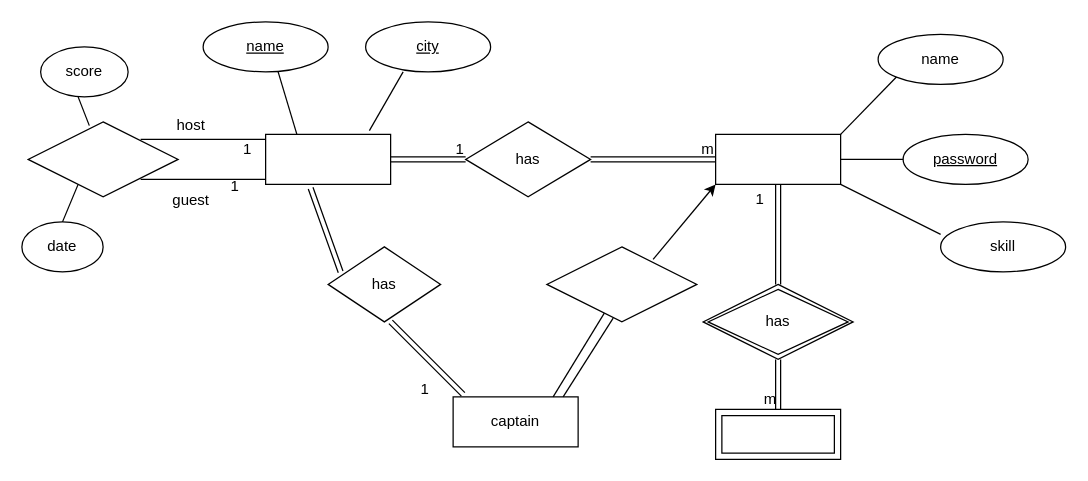
Image size: 1088x481. Some labels were removed from this diagram. Each missing label, with the box of its shape:
injury record: (714, 408, 841, 459)
is-a: (546, 246, 697, 322)
play tennis: (27, 121, 178, 197)
player: (714, 133, 841, 184)
team: (264, 133, 391, 184)
